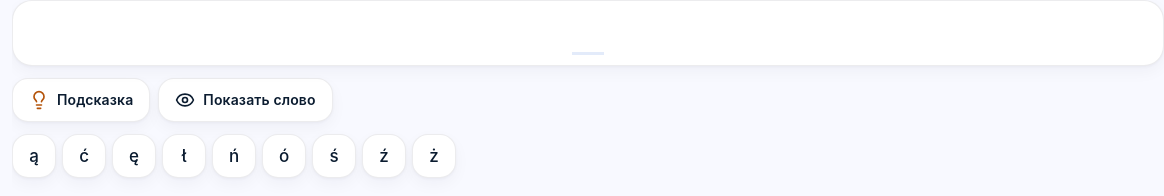
Test: LetterSlotsInput — подсказка (hint) › fills in only the current letter and marks it hinted
The width and height of the screenshot is (1164, 196).
Click the button "Подсказка": (81, 100) [12,78,150,122]
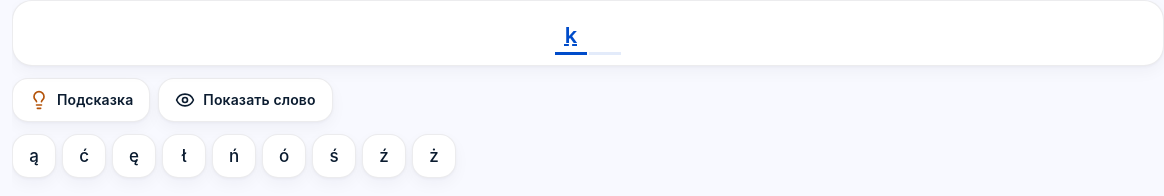
Result: the text "k" is shown at [555,11,587,55]
